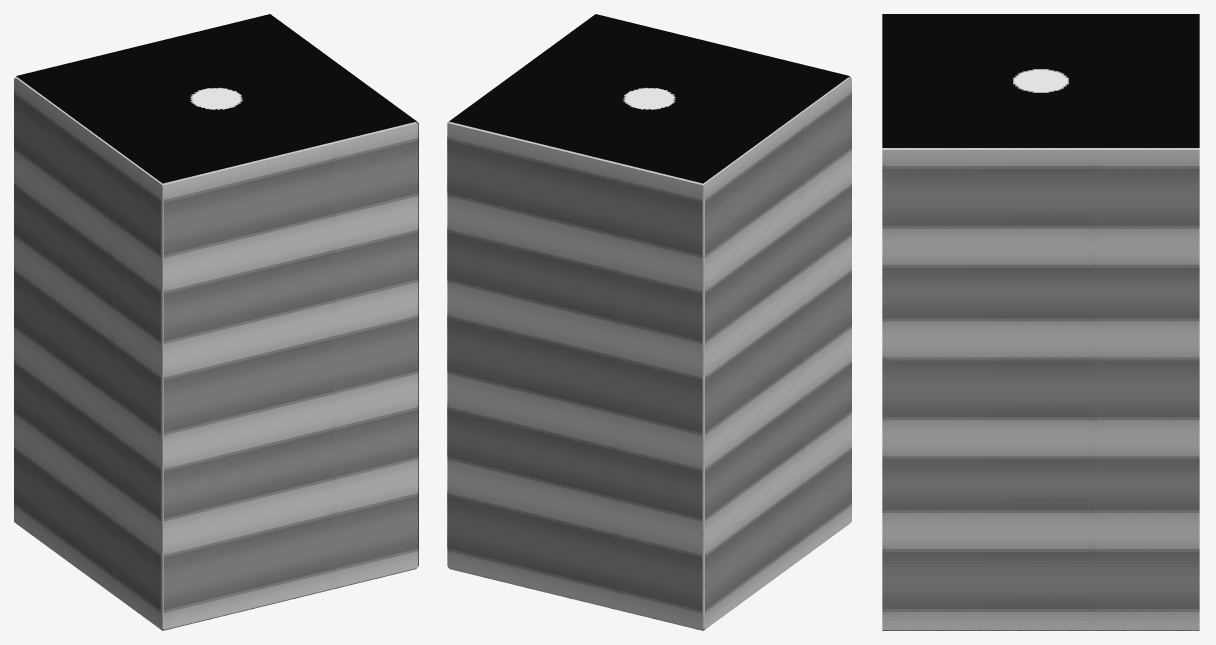
Rendered from transporter.obj.
3 views of the same model, side by side, from view 1: azimuth 30°, elevation 25°; view 2: azimuth 150°, elevation 25°; view 3: azimuth 270°, elevation 25° (orthographic). The views are drawn at different scales.
Visible parts, largest first — view 1: Transporter11, Transporter10, Transporter2, Transporter1; view 2: Transporter9, Transporter10, Transporter2, Transporter1; view 3: Transporter8, Transporter2, Transporter1.
Boxes of the visible parts, x1,y1,x2,y2 form: Transporter11: (163,124,417,629); Transporter10: (14,78,160,629); Transporter2: (16,14,416,183); Transporter1: (15,77,417,628); Transporter9: (448,124,702,629); Transporter10: (705,78,851,629); Transporter2: (449,14,849,183); Transporter1: (448,77,850,628); Transporter8: (882,151,1199,629); Transporter2: (882,14,1199,147); Transporter1: (882,148,1199,150).
Bounding box in the file's own units: 3.04 × 5.04 × 3.04.
8 materials, 8 textured.
